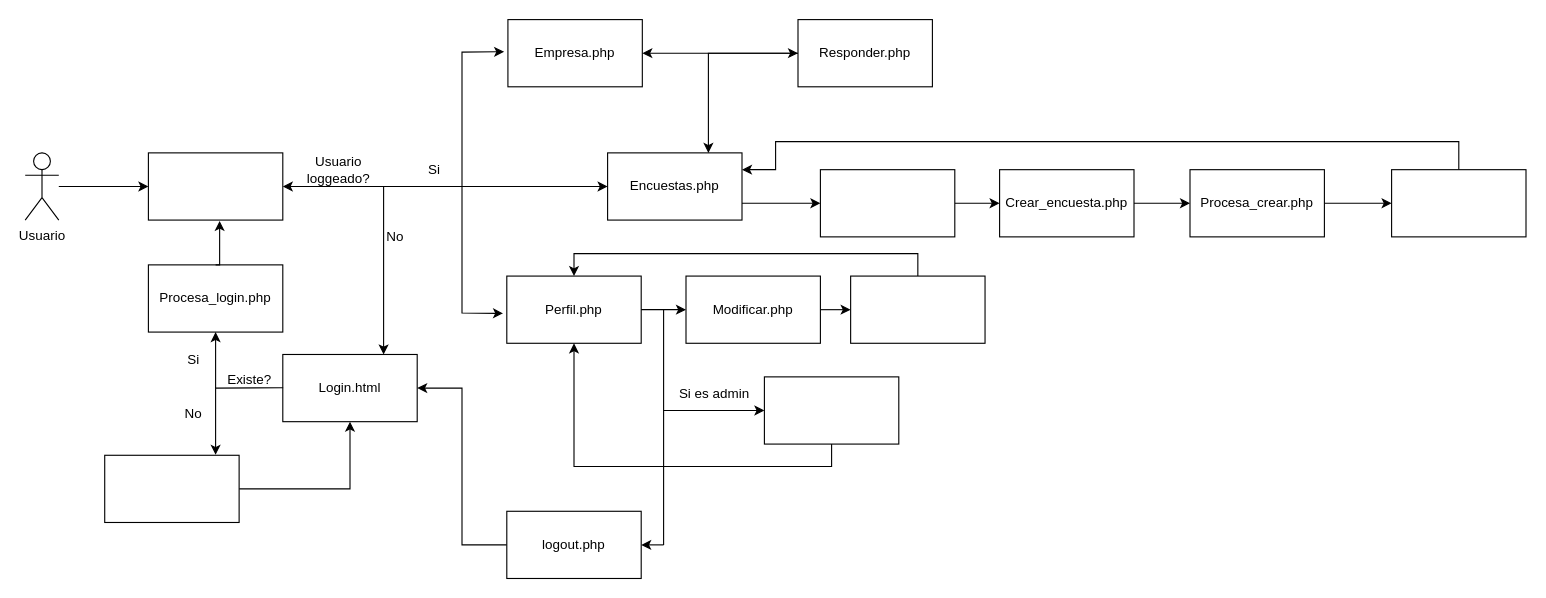
The diagram is 1546 pixels wide and 598 high, and some of its shapes have lost their labels. The shapes that lost their labels are listed below. From the top down, each one's centre as x and y in pixels, then its label:
(215,186): Página_principal.php
(887,203): opciones encuestas.php
(1458,203): Procesa_crear_ dos.php
(917,309): Procesa_ modificacion.php
(831,410): Resultados
(171,488): Registro.php
